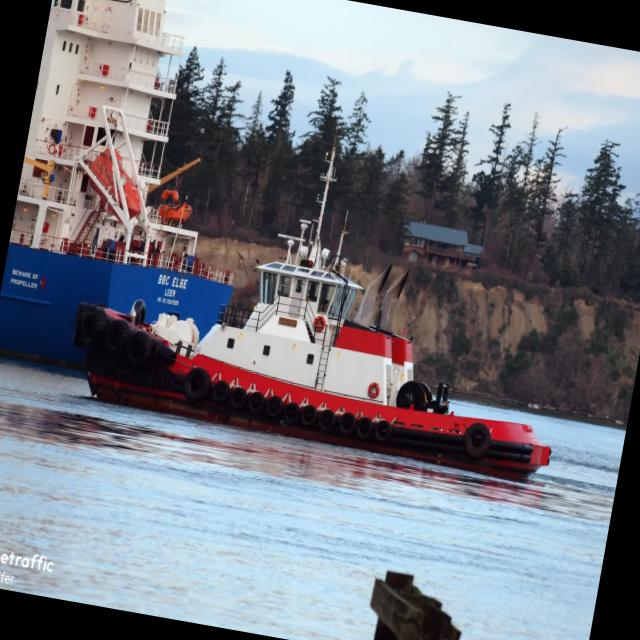Tug: (73, 144, 550, 477)
